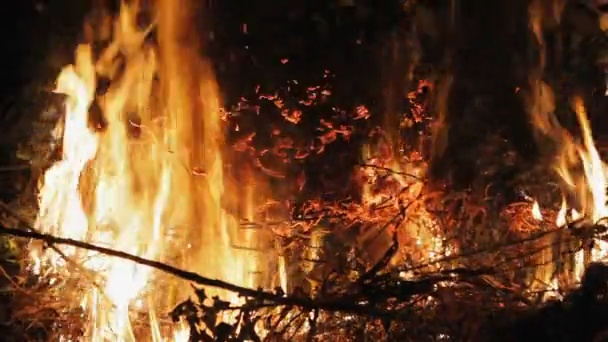fire: (24, 1, 264, 342), (529, 108, 608, 298), (360, 153, 430, 204), (277, 255, 289, 293)
